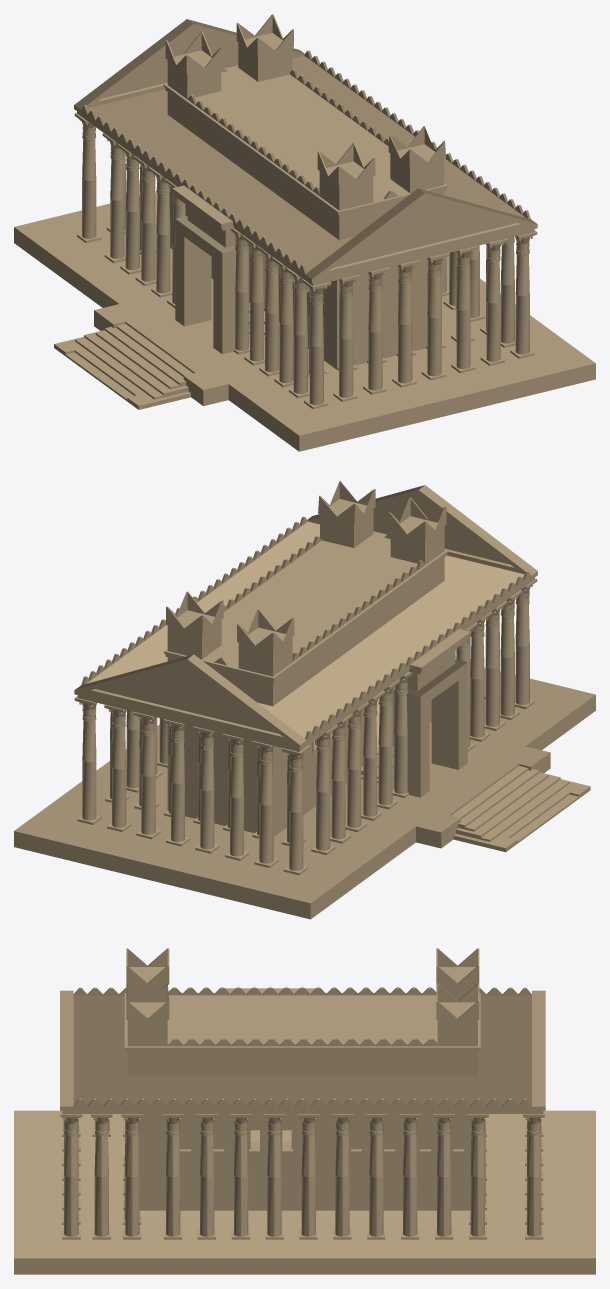
Rendered from temple-bel.glb.
The picture shows the model from 3 angles, top to bottom: view 1: azimuth 30°, elevation 25°; view 2: azimuth 150°, elevation 25°; view 3: azimuth 270°, elevation 25°; orthographic projection. The views are drawn at different scales.
Visible parts, largest first — view 1: Temple_of_Bel_Giovanni_De_Gasperis_A_Cordisco_NEW PALMYRA_CC; view 2: Temple_of_Bel_Giovanni_De_Gasperis_A_Cordisco_NEW PALMYRA_CC; view 3: Temple_of_Bel_Giovanni_De_Gasperis_A_Cordisco_NEW PALMYRA_CC.
Boxes of the visible parts, x1,y1,x2,y2 form: Temple_of_Bel_Giovanni_De_Gasperis_A_Cordisco_NEW PALMYRA_CC: [14, 14, 595, 451]; Temple_of_Bel_Giovanni_De_Gasperis_A_Cordisco_NEW PALMYRA_CC: [14, 480, 595, 919]; Temple_of_Bel_Giovanni_De_Gasperis_A_Cordisco_NEW PALMYRA_CC: [14, 948, 595, 1274].
Bounding box in the file's own units: 24.24 × 13.84 × 32.
